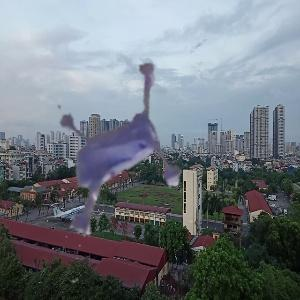drone: (16, 78, 218, 280)
